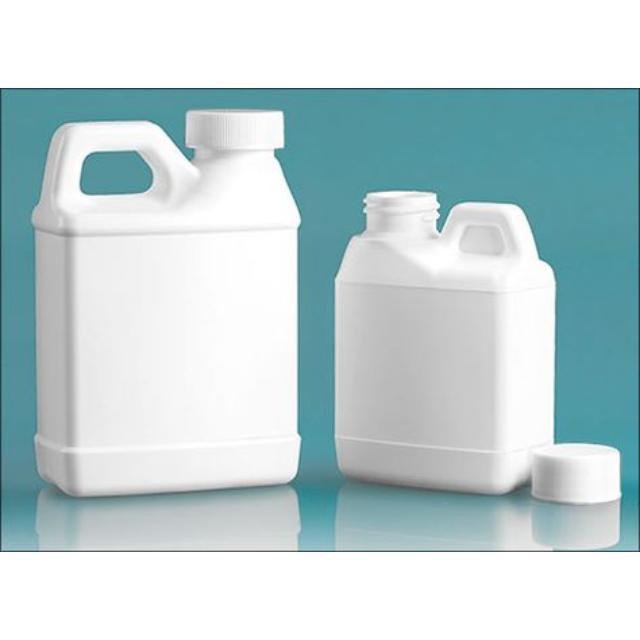Recipiente plastico: (30, 111, 302, 500), (334, 192, 554, 496)
